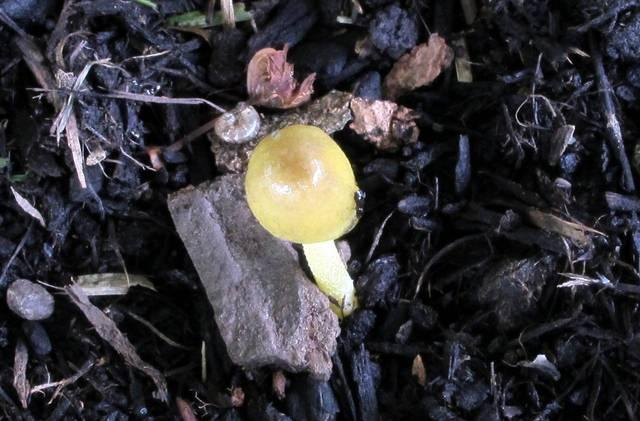edible_mushroom: (242, 122, 366, 319)
